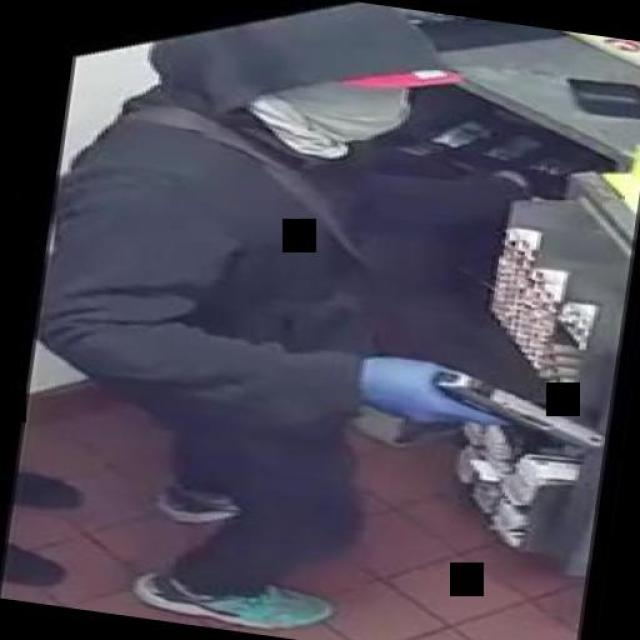gun: (380, 354, 614, 458)
